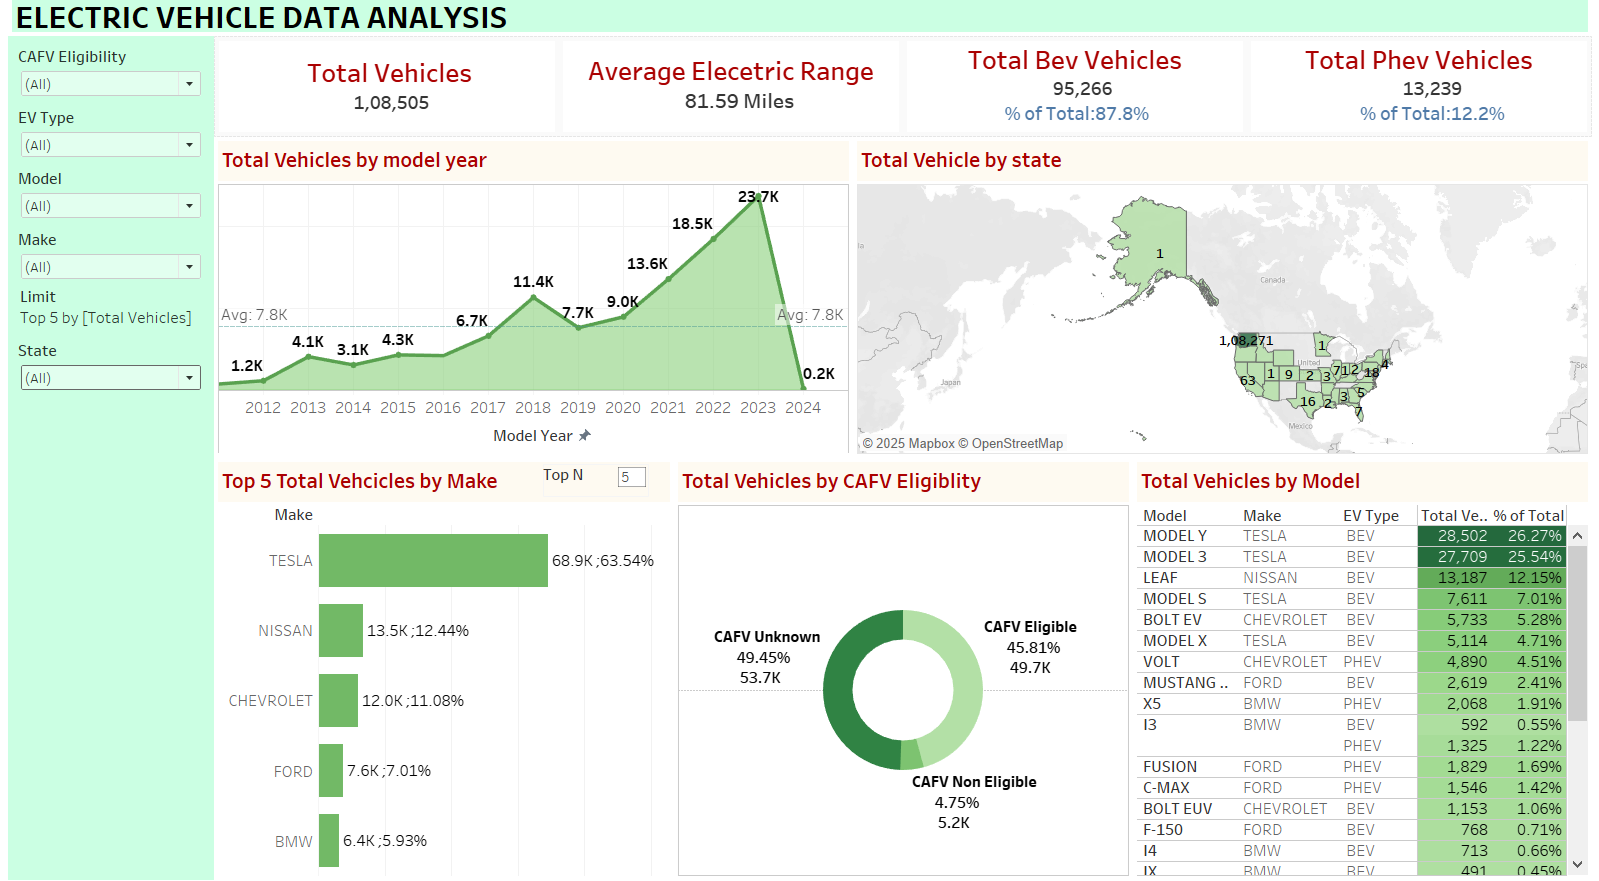

Layout of this report page (visuals, bound fields, positions):
{"tool":"tableau","page":{"name":"Dashboard 1","canvas":[1600,900],"ordinal":0},"visuals":[{"type":"title","box":[8,8,1584,40]},{"type":"worksheet","title":"Total Vehicles","mark":"Automatic","box":[215,49,344,99]},{"type":"worksheet","title":"Average Electric Range","mark":"Automatic","box":[559,49,344,99]},{"type":"worksheet","title":"Total Bev Vehicles","mark":"Automatic","box":[903,49,344,99]},{"type":"worksheet","title":"Total Phev Vehicles","mark":"Automatic","box":[1247,49,344,99]},{"type":"filter","title":"Total Vehicles by model year","param":"[federated.0ewt54b1bd00xy1c5xsqf01g3t3m].[none:Clean Alternative Fuel Vehicle (C","box":[14,54,194,61]},{"type":"filter","title":"Total Vehicles by model year","param":"[federated.0ewt54b1bd00xy1c5xsqf01g3t3m].[none:Electric Vehicle Type:nk]","box":[14,115,194,61]},{"type":"worksheet","title":"Total Vehicles by model year","mark":"Area","rows":["Calculation_406449920748683264","Calculation_406449920748683264"],"cols":["Model Year"],"box":[214,149,639,321]},{"type":"worksheet","title":"Total Vehicle by state","mark":"Multipolygon","box":[853,149,739,321]},{"type":"filter","title":"Total Vehicles by model year","param":"[federated.0ewt54b1bd00xy1c5xsqf01g3t3m].[none:Model:nk]","box":[14,176,194,61]},{"type":"filter","title":"Total Vehicles by model year","param":"[federated.0ewt54b1bd00xy1c5xsqf01g3t3m].[none:Make:nk]","box":[14,237,194,111]},{"type":"filter","title":"Total Vehicles by model year","param":"[federated.0ewt54b1bd00xy1c5xsqf01g3t3m].[none:State:nk]","box":[14,348,194,61]},{"type":"worksheet","title":"Top 10 Total Vehcicles by make","mark":"Automatic","rows":["Make"],"cols":["Calculation_406449920748683264"],"box":[214,470,460,422]},{"type":"worksheet","title":"Total Vehicles by CAFV Eligiblity","mark":"Pie","rows":["Calculation_406449920793673736","Calculation_406449920793673736"],"box":[674,470,459,422]},{"type":"worksheet","title":"Total Vehicles by Model","mark":"Square","rows":["Model","Make","Electric Vehicle Type"],"box":[1133,470,459,422]},{"type":"parameter","param":"[Parameters].[Parameter 1]","box":[543,476,106,33]}]}

Visuals, with their boxes in screenshot pixels (x1, y1, x2, y2), scaled from the page's 1600x900 canvas onto the 1599x881 screenshot:
title: <box>8,8,1591,47</box>
"Total Vehicles" worksheet: <box>215,48,559,145</box>
"Average Electric Range" worksheet: <box>559,48,902,145</box>
"Total Bev Vehicles" worksheet: <box>902,48,1246,145</box>
"Total Phev Vehicles" worksheet: <box>1246,48,1590,145</box>
"Total Vehicles by model year" filter: <box>14,53,208,113</box>
"Total Vehicles by model year" filter: <box>14,113,208,172</box>
"Total Vehicles by model year" worksheet (Area marks): <box>214,146,852,460</box>
"Total Vehicle by state" worksheet (Multipolygon marks): <box>852,146,1591,460</box>
"Total Vehicles by model year" filter: <box>14,172,208,232</box>
"Total Vehicles by model year" filter: <box>14,232,208,341</box>
"Total Vehicles by model year" filter: <box>14,341,208,400</box>
"Top 10 Total Vehcicles by make" worksheet: <box>214,460,674,873</box>
"Total Vehicles by CAFV Eligiblity" worksheet (Pie marks): <box>674,460,1132,873</box>
"Total Vehicles by Model" worksheet (Square marks): <box>1132,460,1591,873</box>
parameter: <box>543,466,649,498</box>
